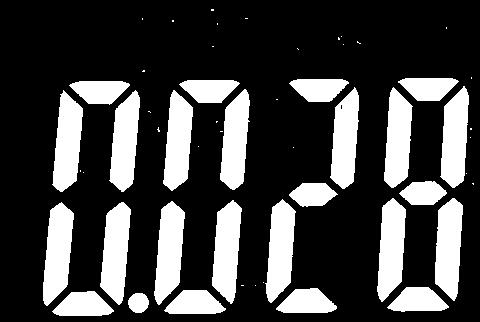0: (40, 79, 141, 316), (152, 79, 251, 318)
2: (264, 80, 361, 317)
8: (374, 75, 471, 313)
dot: (126, 290, 150, 313)
